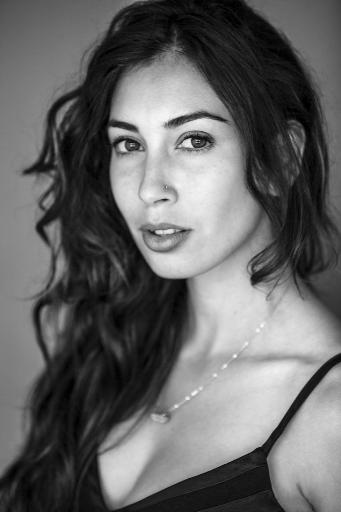left_eye: (175, 132, 218, 159)
left_lip_corner: (183, 223, 199, 240)
right_eye: (113, 139, 145, 160)
right_lip_corner: (139, 226, 152, 242)
